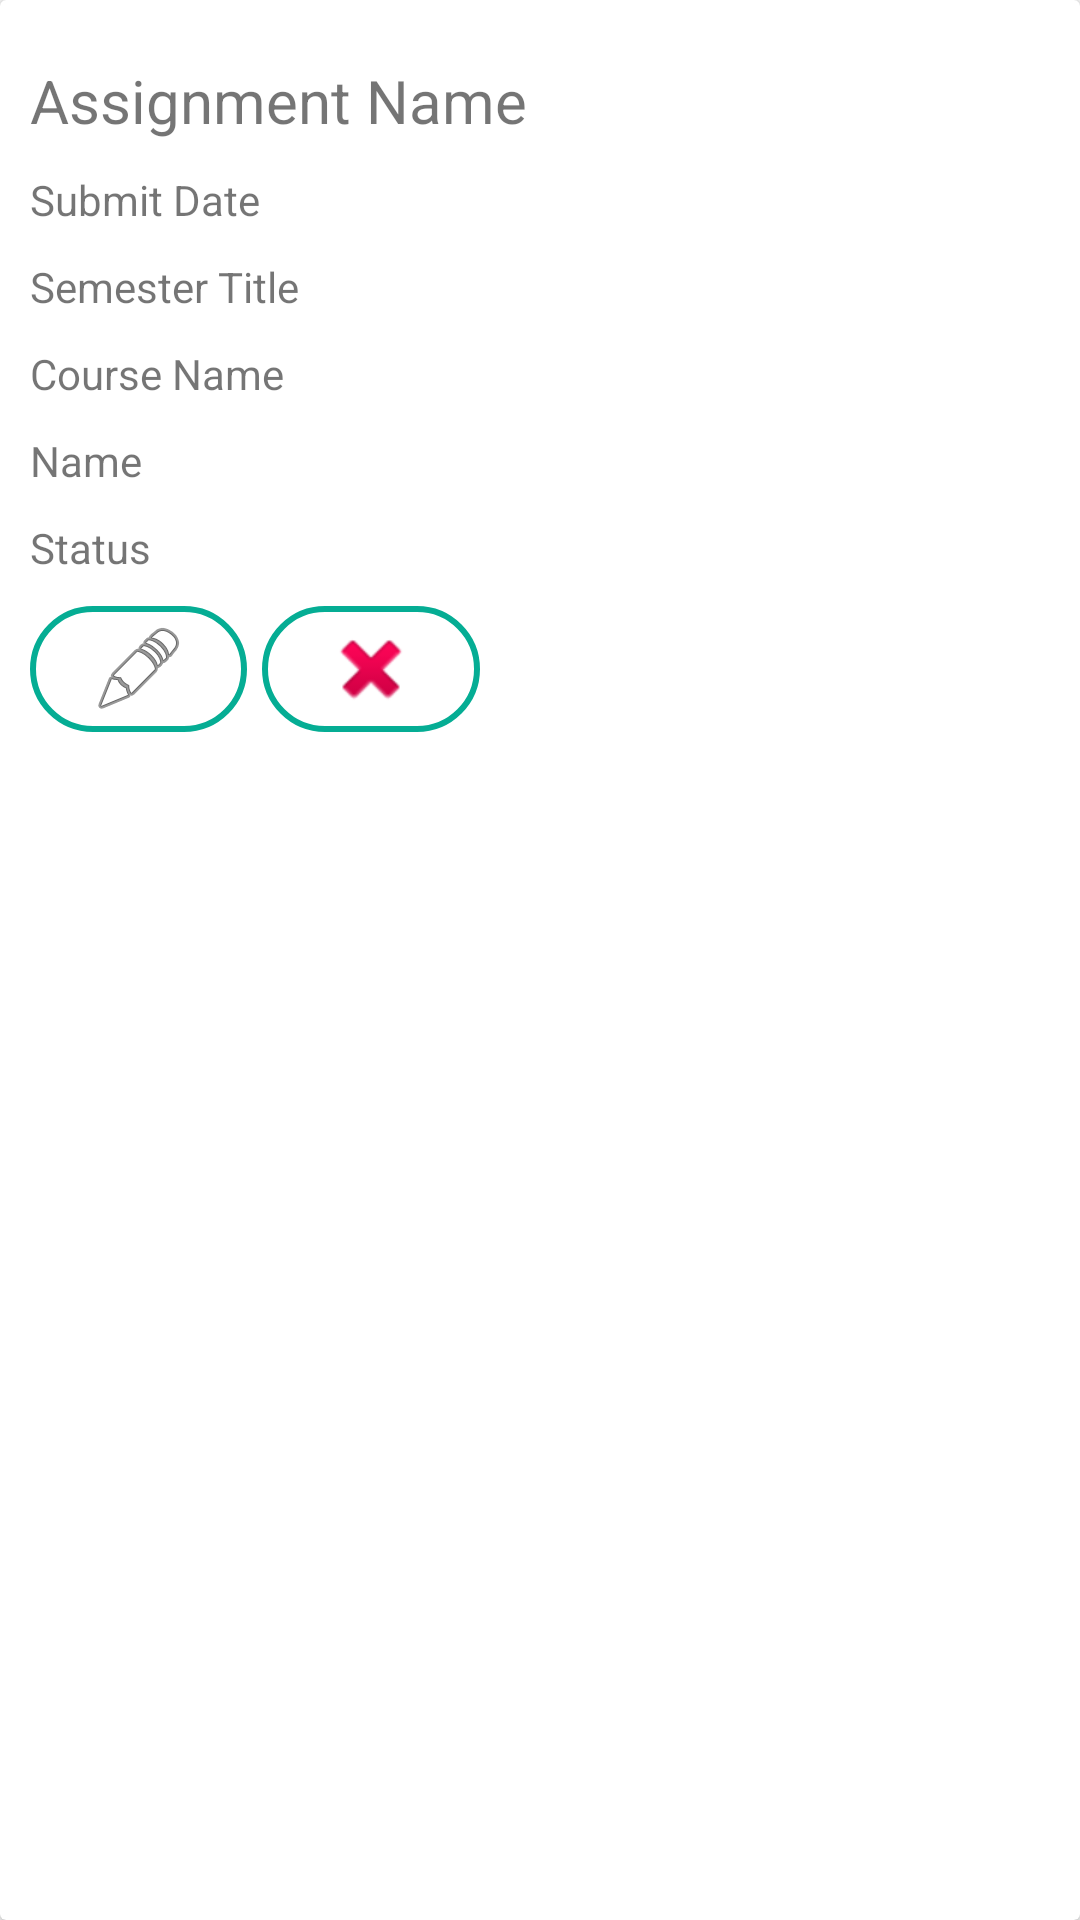

Icon click points for this 1080×1920 phone screenshot, format [x,y]:
delete: [371,669]
edit: [138,669]
